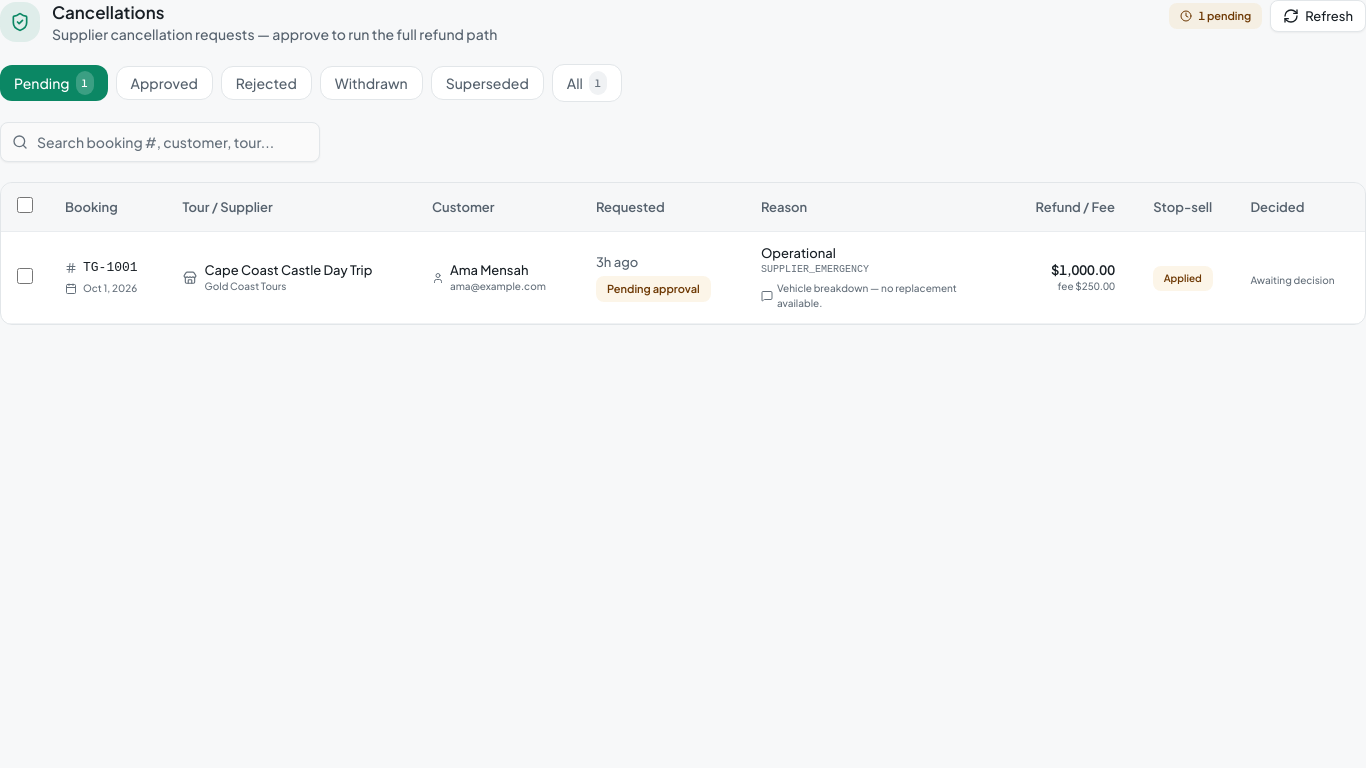
Scenario: CancellationsPage › batch approves the selected requests and shows per-request results
The image size is (1366, 768).
Expected: the text "TG-1001" is shown, [83,259,138,277]
Click the checkbox named "Select TG-1001".
click(25, 276)  # box [17,268,33,284]
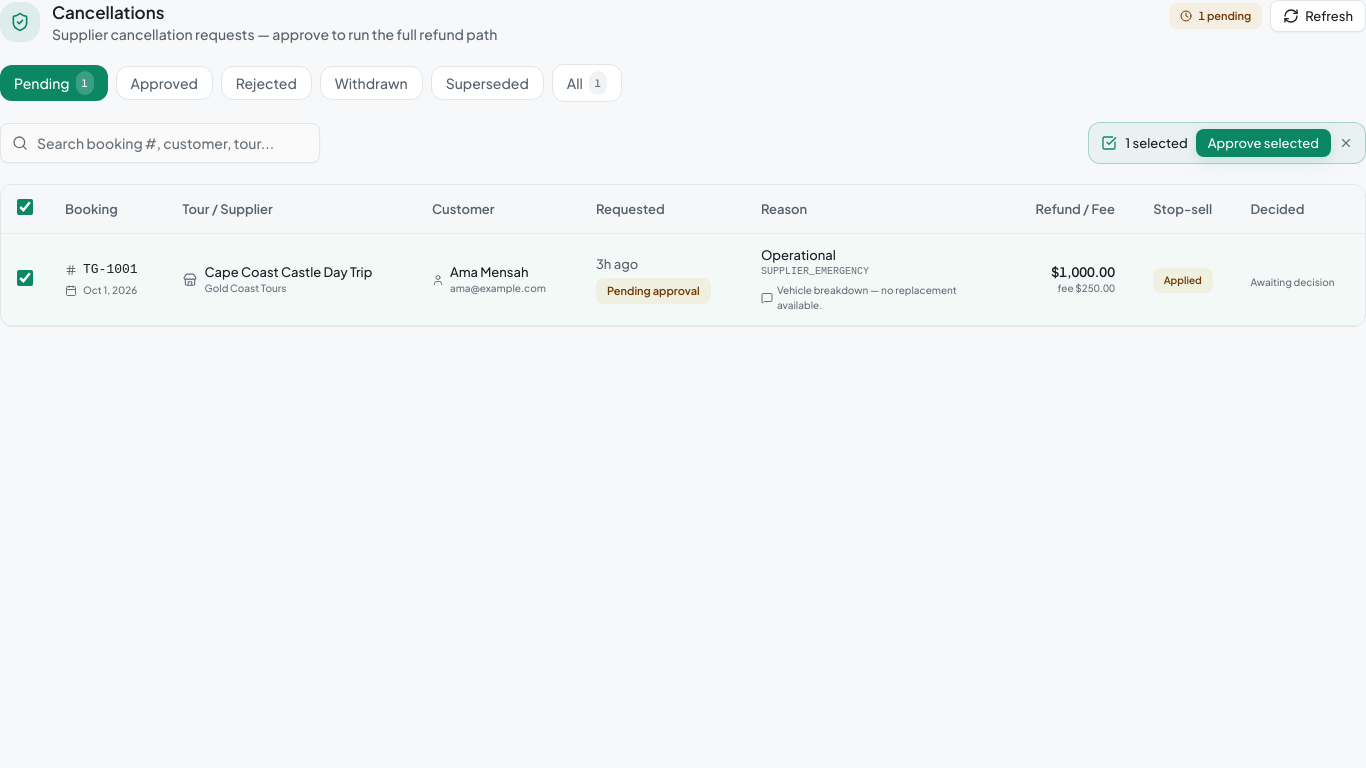
Click the button "Approve selected".
click(1263, 143)  # box [1196,129,1331,157]
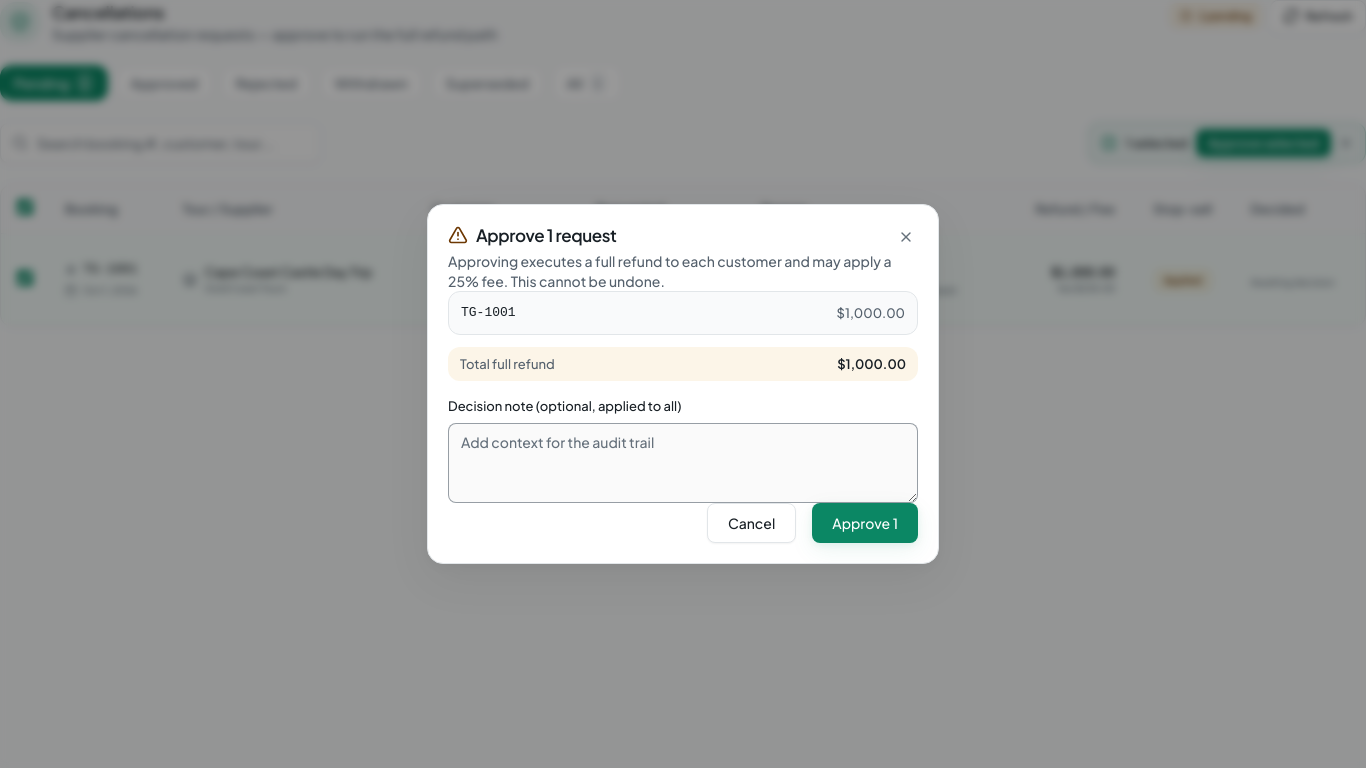
Click the button "Approve 1".
click(865, 523)  # box [812,503,918,543]
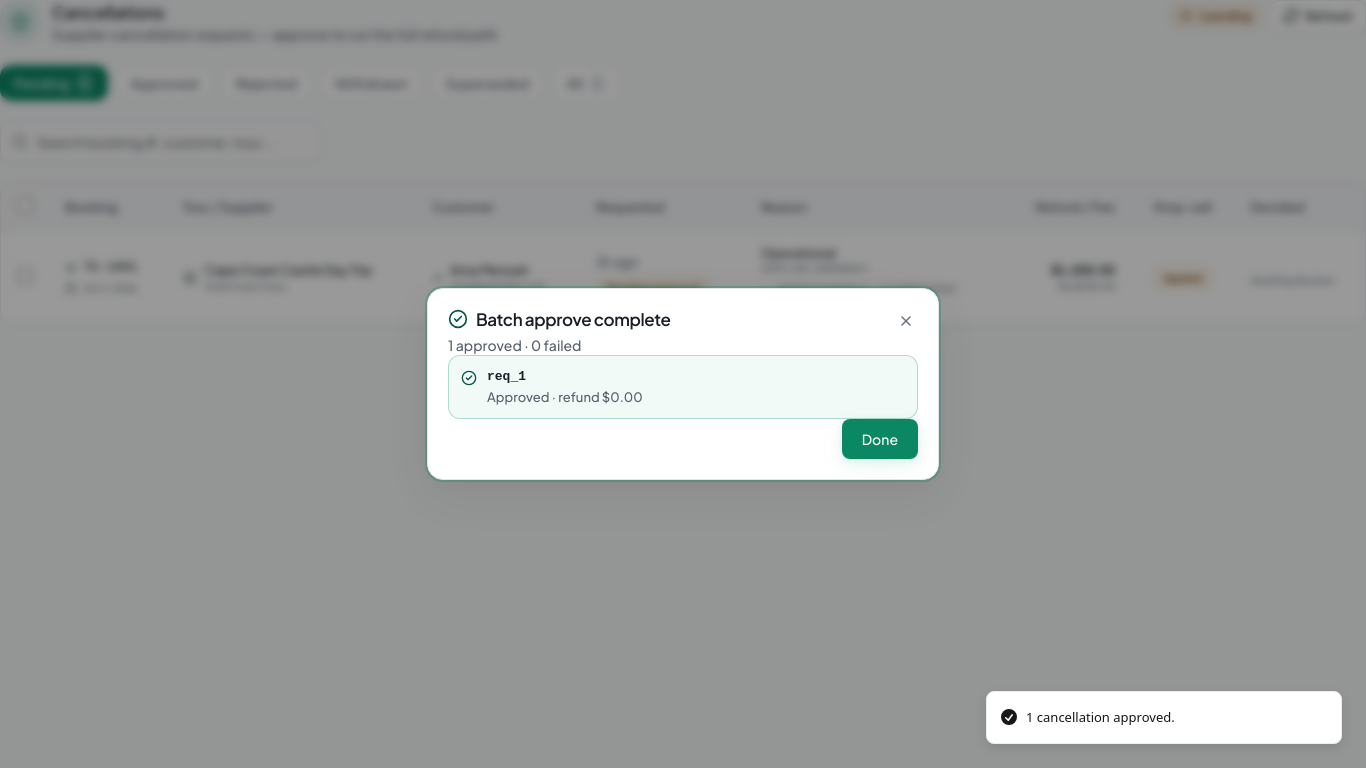
Expected: the heading "Batch approve complete" is shown, [448,308,670,330]
Expected: the text "1 approved · 0 failed" is shown, [448,336,582,354]
